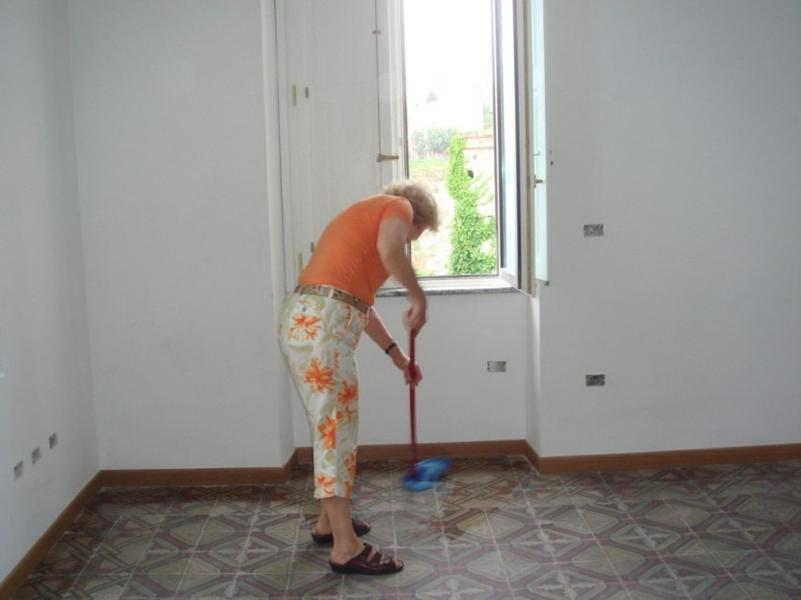person: (276, 180, 443, 579)
